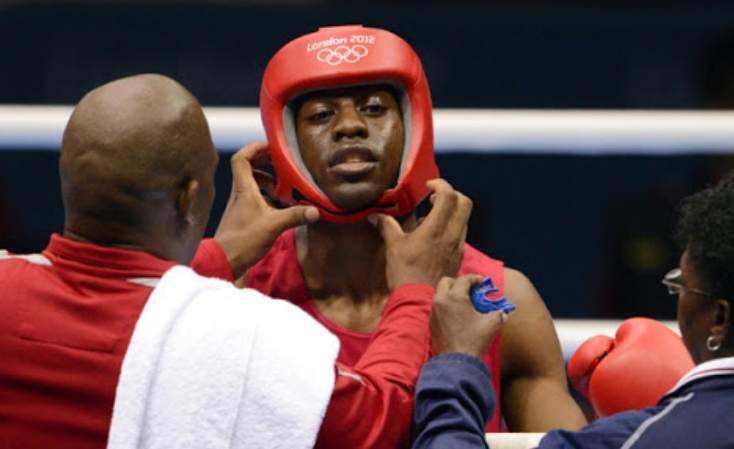mouth: (325, 144, 379, 173)
nose: (330, 122, 371, 138)
